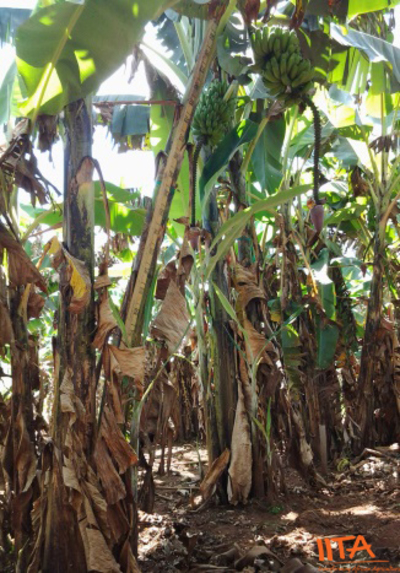bananaHand: (249, 23, 317, 110), (188, 77, 245, 153)
